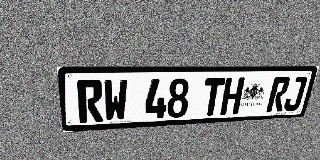4: (145, 79, 169, 119)
8: (166, 78, 191, 118)
H: (220, 77, 245, 115)
J: (282, 76, 308, 111)
R: (77, 80, 103, 123), (266, 77, 291, 112)
T: (201, 78, 226, 116)
W: (103, 79, 128, 122)
